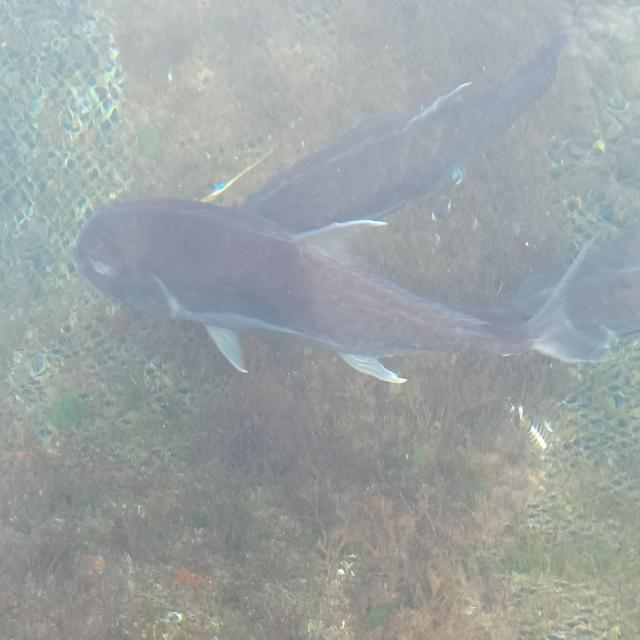ikan: (72, 29, 638, 386)
